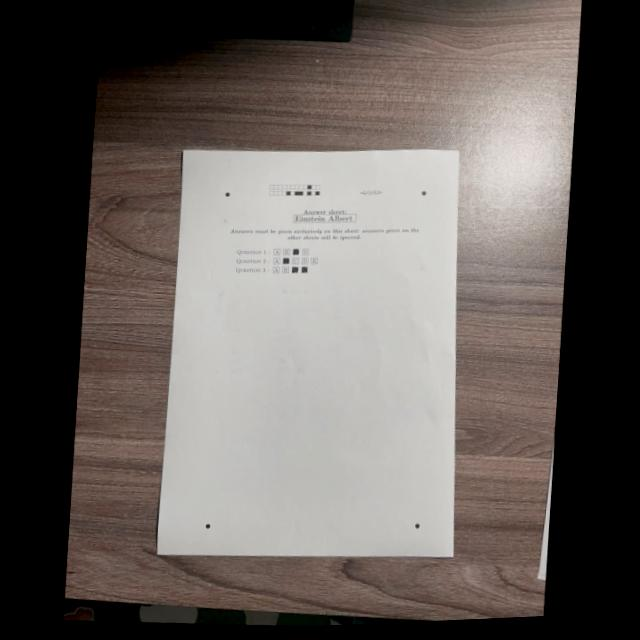Markers: (225, 191, 230, 197), (414, 523, 419, 529), (421, 191, 426, 196), (205, 523, 210, 528)
